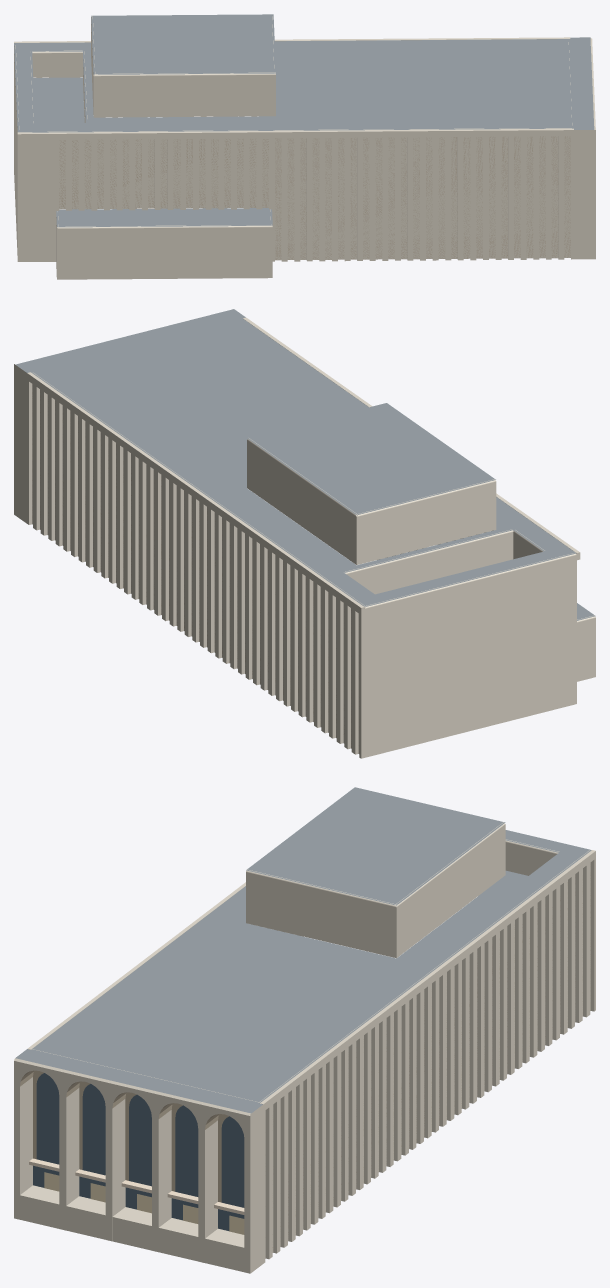
The model's file is detail.glb.
The picture shows the model from 3 angles, top to bottom: view 1: azimuth 30°, elevation 25°; view 2: azimuth 150°, elevation 25°; view 3: azimuth 270°, elevation 25°; orthographic projection. The views are drawn at different scales.
Parts seen in each view (by area): view 1: metropolitan-opera-house; view 2: metropolitan-opera-house; view 3: metropolitan-opera-house.
Part boxes in pixels (x1,y1,x2,y2): metropolitan-opera-house: (14,14,595,279); metropolitan-opera-house: (14,309,595,758); metropolitan-opera-house: (14,787,595,1273).
Size of the model in its own units: 145 by 45 by 112.
